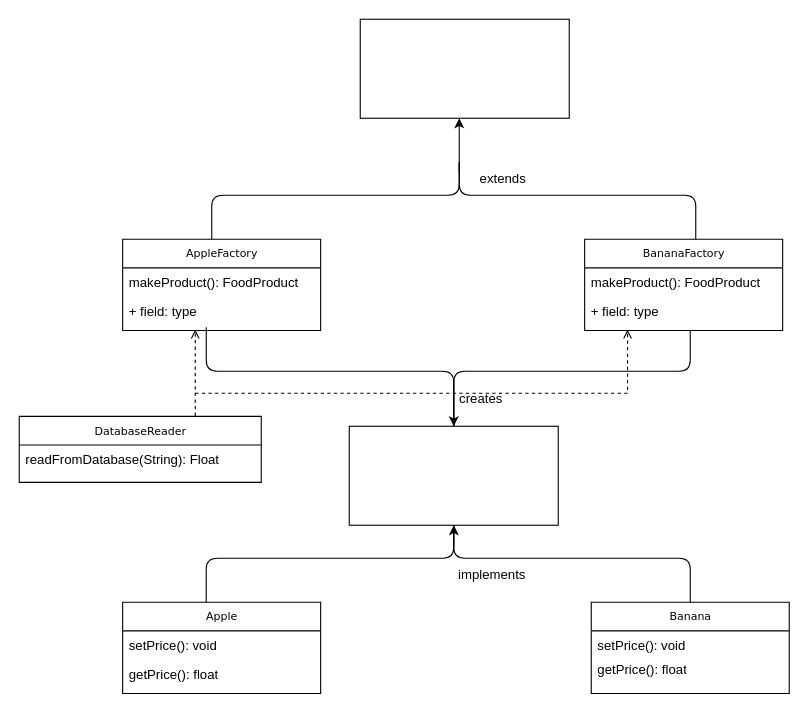
Some shapes in this 809 by 713 pixel diagram are drawn without their labels. The centre of each missing label's shape, as x and y in pixels:
"<<Interface>> GroceryProduct + makeProduct(): FoodProduct" goes at (453,475).
"<<Interface>> GroceryProductFactory + makeProduct(): FoodProduct" goes at (464,68).
